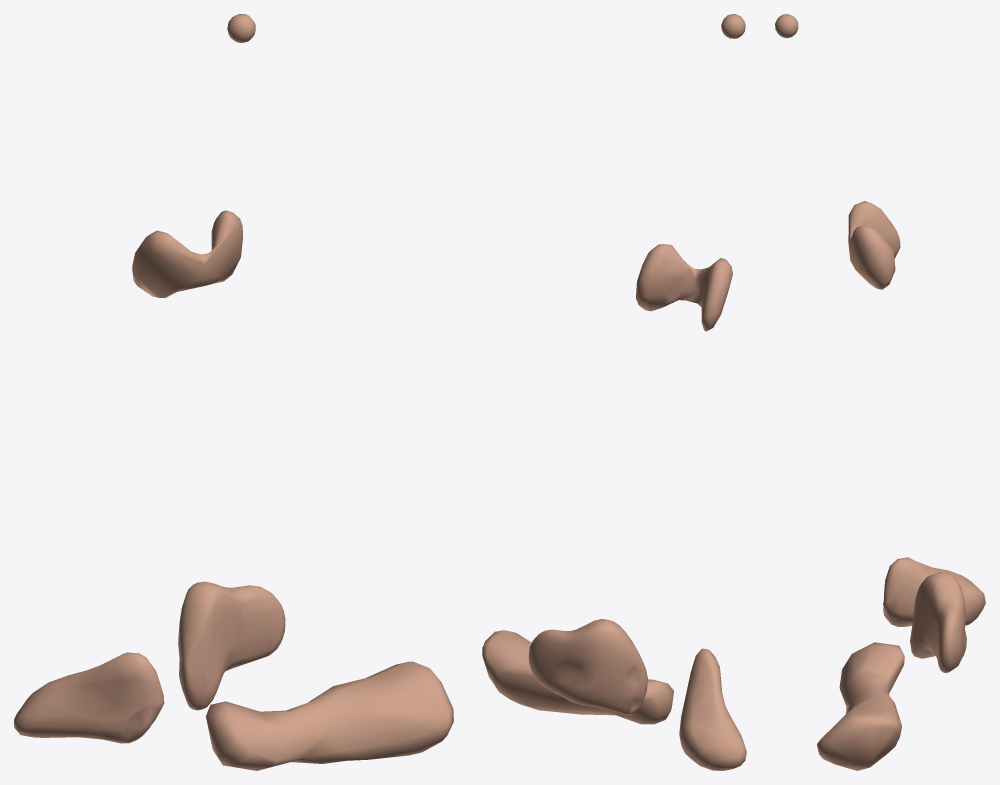
Rendered from pediatric_neonate_female.endocrine.LOD1.glb.
3 views of the same model, side by side, from view 1: azimuth 30°, elevation 25°; view 2: azimuth 150°, elevation 25°; view 3: azimuth 270°, elevation 25° (orthographic). The views are drawn at different scales.
Parts seen in each view (by area): view 1: PEDIATRIC.NEONATE.FEMALE.ENDOCRINE.PANCREAS, PEDIATRIC.NEONATE.FEMALE.ENDOCRINE.ADRENAL.R, PEDIATRIC.NEONATE.FEMALE.ENDOCRINE.ADRENAL.L, PEDIATRIC.NEONATE.FEMALE.ENDOCRINE.THYROID; view 2: PEDIATRIC.NEONATE.FEMALE.ENDOCRINE.ADRENAL.L, PEDIATRIC.NEONATE.FEMALE.ENDOCRINE.PANCREAS, PEDIATRIC.NEONATE.FEMALE.ENDOCRINE.ADRENAL.R, PEDIATRIC.NEONATE.FEMALE.ENDOCRINE.THYROID, PEDIATRIC.NEONATE.FEMALE.ENDOCRINE.PITUITARY_GLAND; view 3: PEDIATRIC.NEONATE.FEMALE.ENDOCRINE.PANCREAS, PEDIATRIC.NEONATE.FEMALE.ENDOCRINE.ADRENAL.L, PEDIATRIC.NEONATE.FEMALE.ENDOCRINE.THYROID, PEDIATRIC.NEONATE.FEMALE.ENDOCRINE.ADRENAL.R, PEDIATRIC.NEONATE.FEMALE.ENDOCRINE.PITUITARY_GLAND.
Part boxes in pixels (<box>): PEDIATRIC.NEONATE.FEMALE.ENDOCRINE.PANCREAS: <box>206,661,453,770</box>; PEDIATRIC.NEONATE.FEMALE.ENDOCRINE.ADRENAL.R: <box>14,652,164,743</box>; PEDIATRIC.NEONATE.FEMALE.ENDOCRINE.ADRENAL.L: <box>178,581,285,710</box>; PEDIATRIC.NEONATE.FEMALE.ENDOCRINE.THYROID: <box>132,210,242,298</box>; PEDIATRIC.NEONATE.FEMALE.ENDOCRINE.ADRENAL.L: <box>528,619,647,714</box>; PEDIATRIC.NEONATE.FEMALE.ENDOCRINE.PANCREAS: <box>482,630,673,724</box>; PEDIATRIC.NEONATE.FEMALE.ENDOCRINE.ADRENAL.R: <box>679,648,746,770</box>; PEDIATRIC.NEONATE.FEMALE.ENDOCRINE.THYROID: <box>636,244,732,331</box>; PEDIATRIC.NEONATE.FEMALE.ENDOCRINE.PITUITARY_GLAND: <box>721,14,745,38</box>; PEDIATRIC.NEONATE.FEMALE.ENDOCRINE.PANCREAS: <box>817,642,904,770</box>; PEDIATRIC.NEONATE.FEMALE.ENDOCRINE.ADRENAL.L: <box>910,572,966,672</box>; PEDIATRIC.NEONATE.FEMALE.ENDOCRINE.THYROID: <box>848,201,900,289</box>; PEDIATRIC.NEONATE.FEMALE.ENDOCRINE.ADRENAL.R: <box>883,557,985,626</box>; PEDIATRIC.NEONATE.FEMALE.ENDOCRINE.PITUITARY_GLAND: <box>775,14,798,38</box>.
Bounding box in the file's own units: 0.0854 × 0.1854 × 0.0527.
